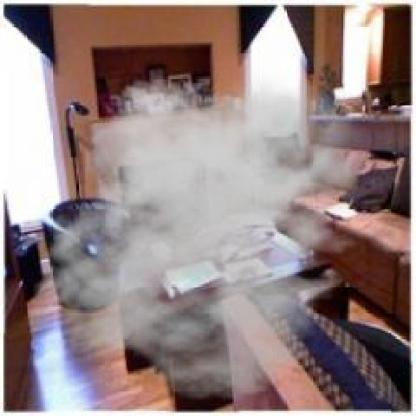Smoke: (33, 67, 380, 401)
